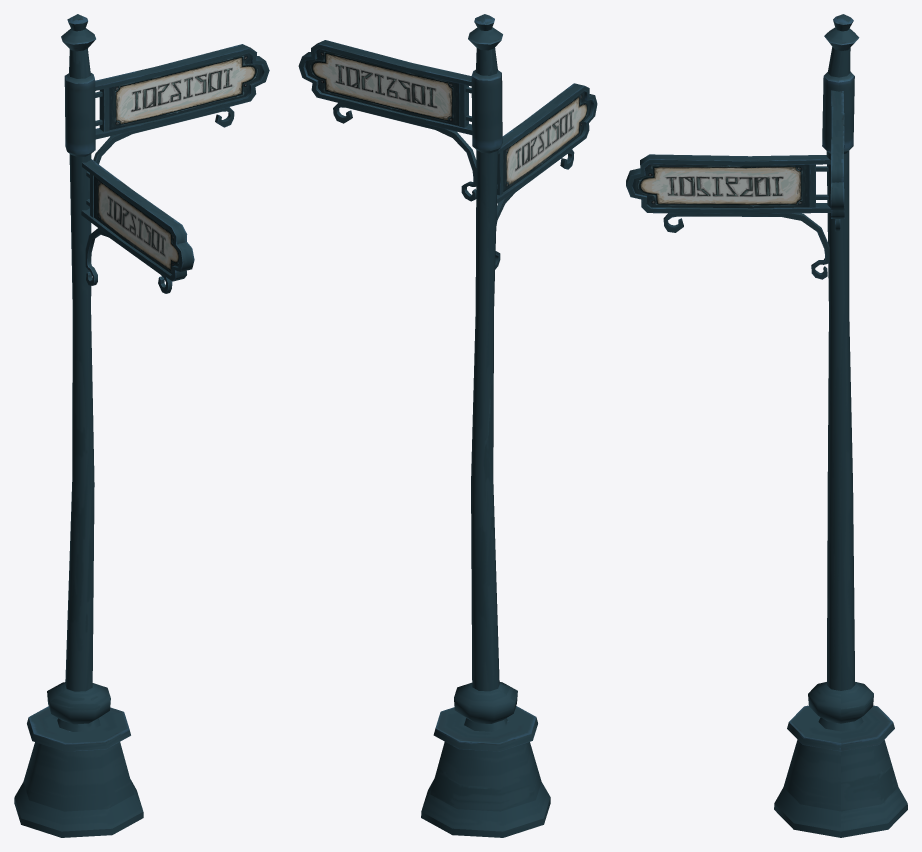
File: SM_PROP_streetsign_city_02.fbx
The picture shows the model from 3 angles, left to right: view 1: azimuth 30°, elevation 25°; view 2: azimuth 150°, elevation 25°; view 3: azimuth 270°, elevation 25°; orthographic projection.
Visible parts, largest first — view 1: SM_PROP_streetsign_city_02; view 2: SM_PROP_streetsign_city_02; view 3: SM_PROP_streetsign_city_02.
Boxes of the visible parts, bbox=[...] form: SM_PROP_streetsign_city_02: bbox=[14, 14, 269, 837]; SM_PROP_streetsign_city_02: bbox=[298, 14, 597, 837]; SM_PROP_streetsign_city_02: bbox=[626, 14, 907, 837].
Bounding box in the file's own units: 136 × 425 × 137.
